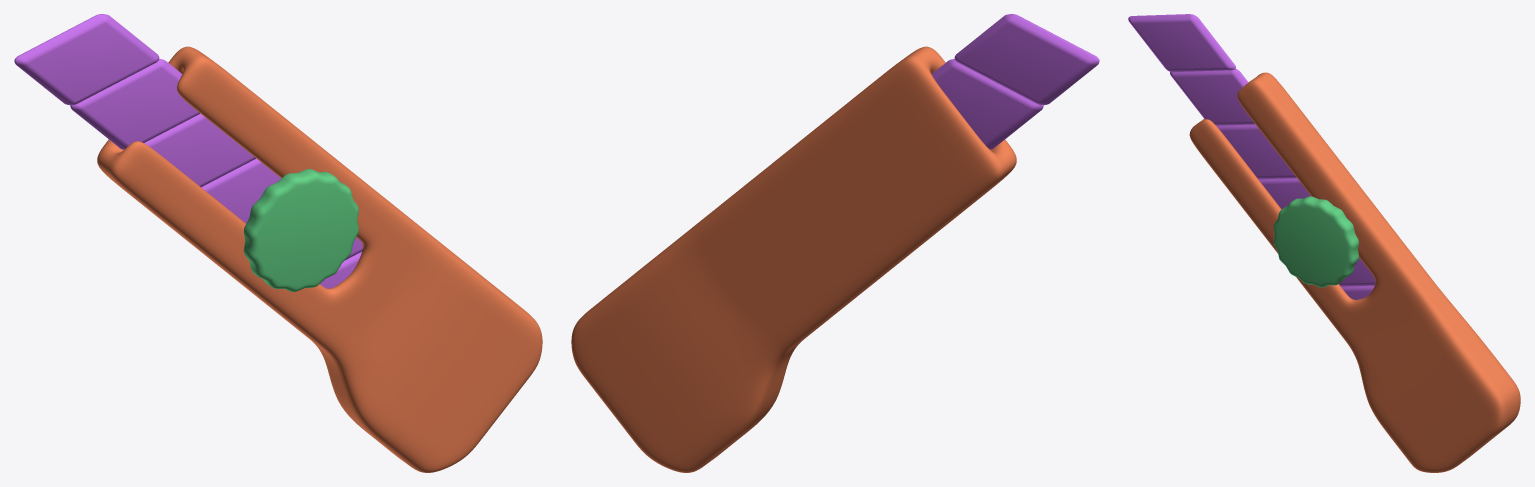
Rendered from 9. Paper Cutter.glb.
3 views of the same model, side by side, from view 1: azimuth 30°, elevation 25°; view 2: azimuth 150°, elevation 25°; view 3: azimuth 330°, elevation 25° (orthographic). The views are drawn at different scales.
Visible parts, largest first — view 1: Paper Cutter, Cube, Cylinder; view 2: Paper Cutter, Cube; view 3: Paper Cutter, Cube, Cylinder.
Part boxes in pixels (x1=…): Paper Cutter: x1=97, y1=46, x2=542, y2=472; Cube: x1=14, y1=14, x2=362, y2=288; Cylinder: x1=243, y1=169, x2=358, y2=291; Paper Cutter: x1=571, y1=46, x2=1016, y2=472; Cube: x1=931, y1=14, x2=1099, y2=149; Paper Cutter: x1=1189, y1=72, x2=1520, y2=472; Cube: x1=1128, y1=14, x2=1375, y2=299; Cylinder: x1=1273, y1=196, x2=1358, y2=287.
Bounding box in the file's own units: 0.1838 × 0.1797 × 0.0231.
